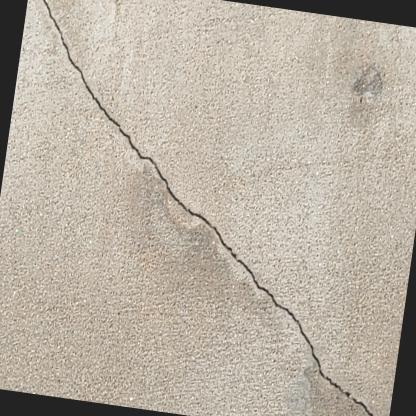crack: (40, 0, 375, 416)
